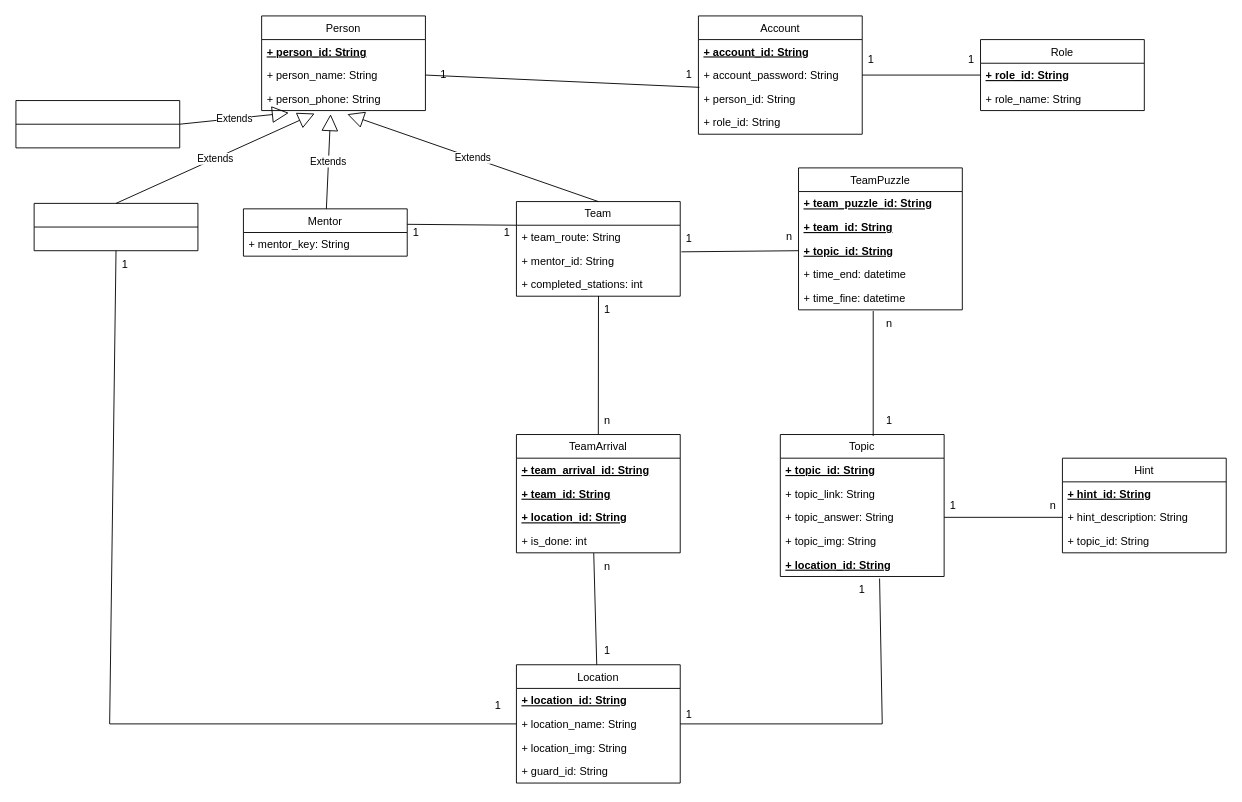
Image size: 1242x802. Some labels were removed from this diagram. Each missing label, with the box of its shape:
Guard: (33, 202, 198, 251)
Support: (15, 100, 180, 148)
